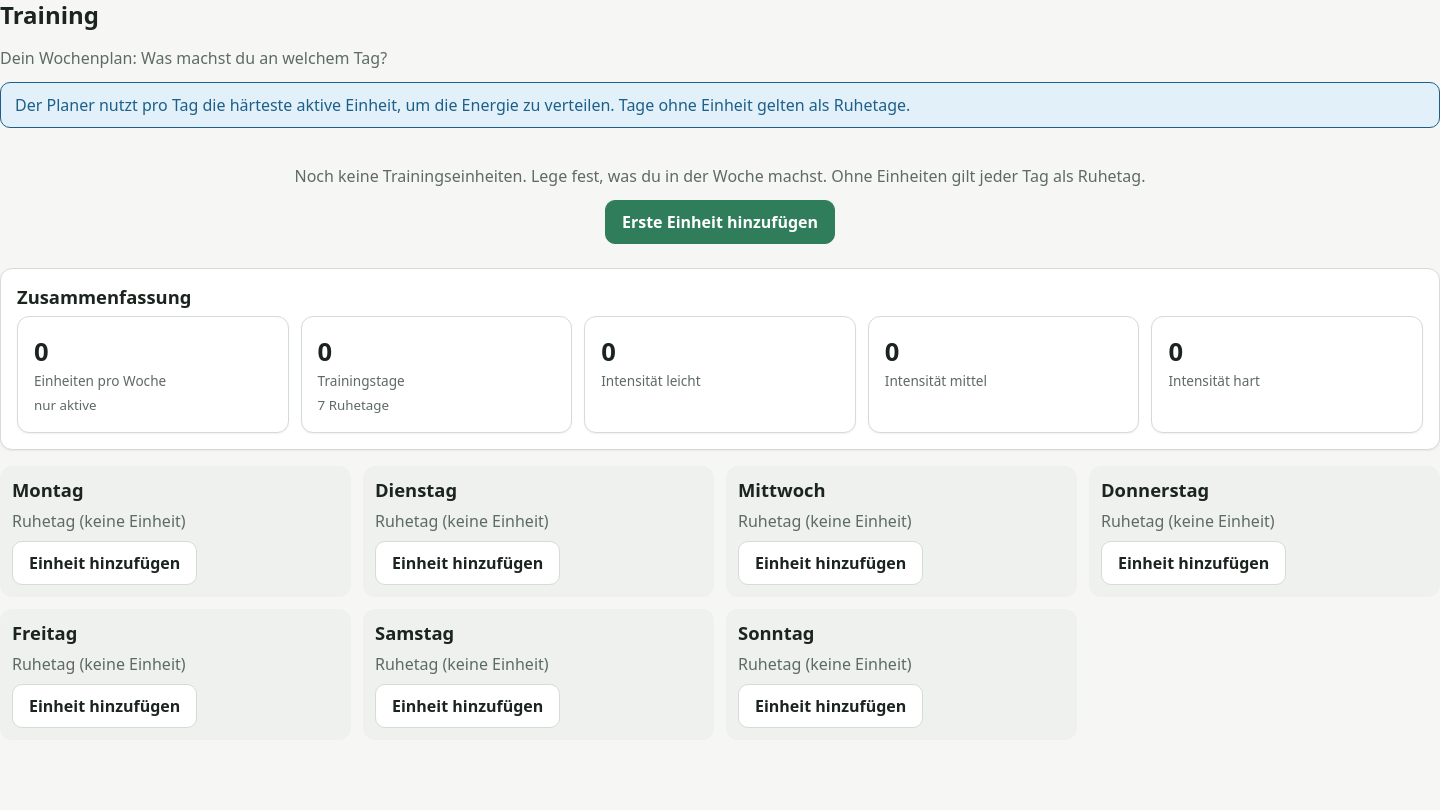
Test: Trainingsplan › zeigt die Servermeldung bei 422
Click the button "Erste Einheit hinzufügen" at [720, 222], box [605,200,835,244]
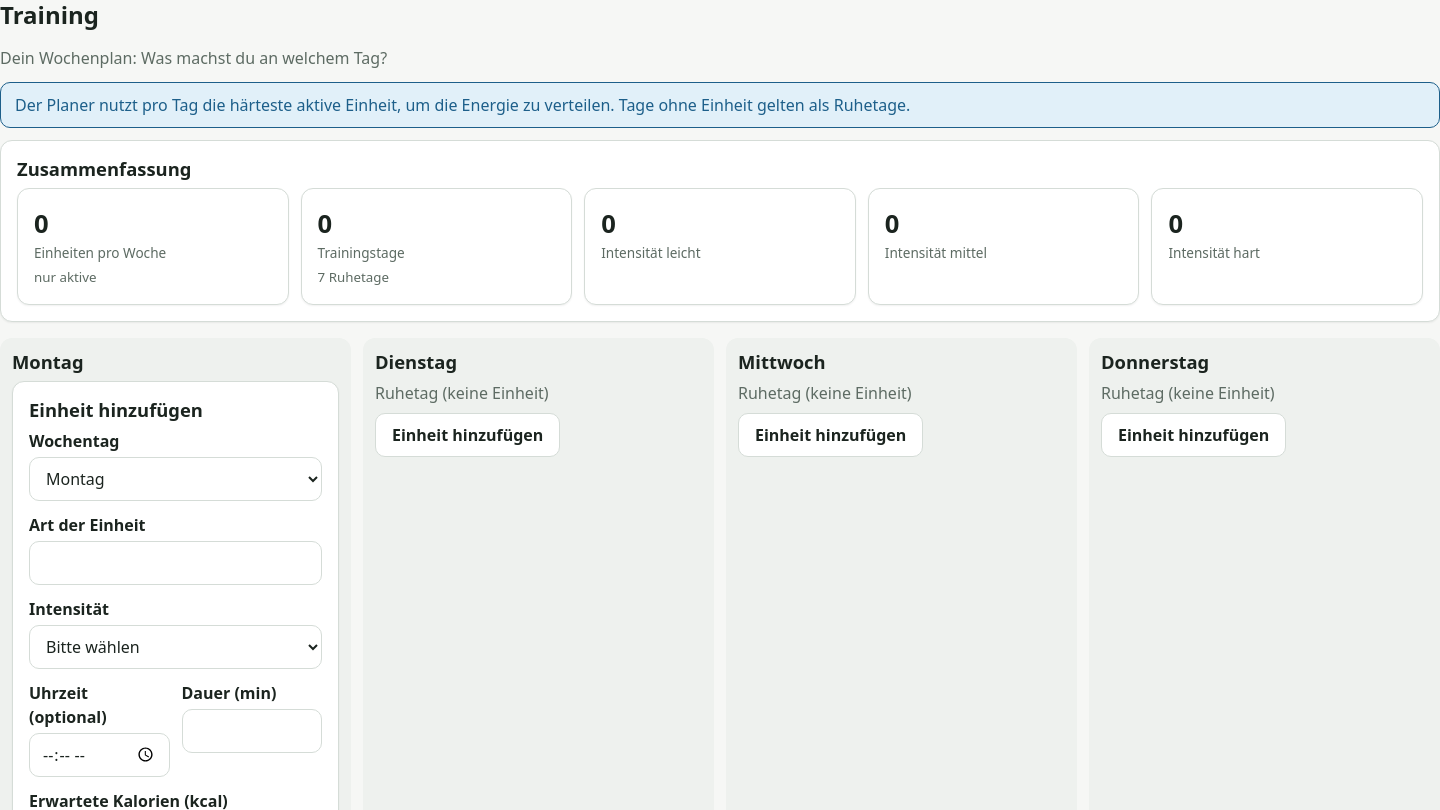
Type "Laufen" into the field labelled "Art der Einheit" at [176, 563], box [29,541,322,585]
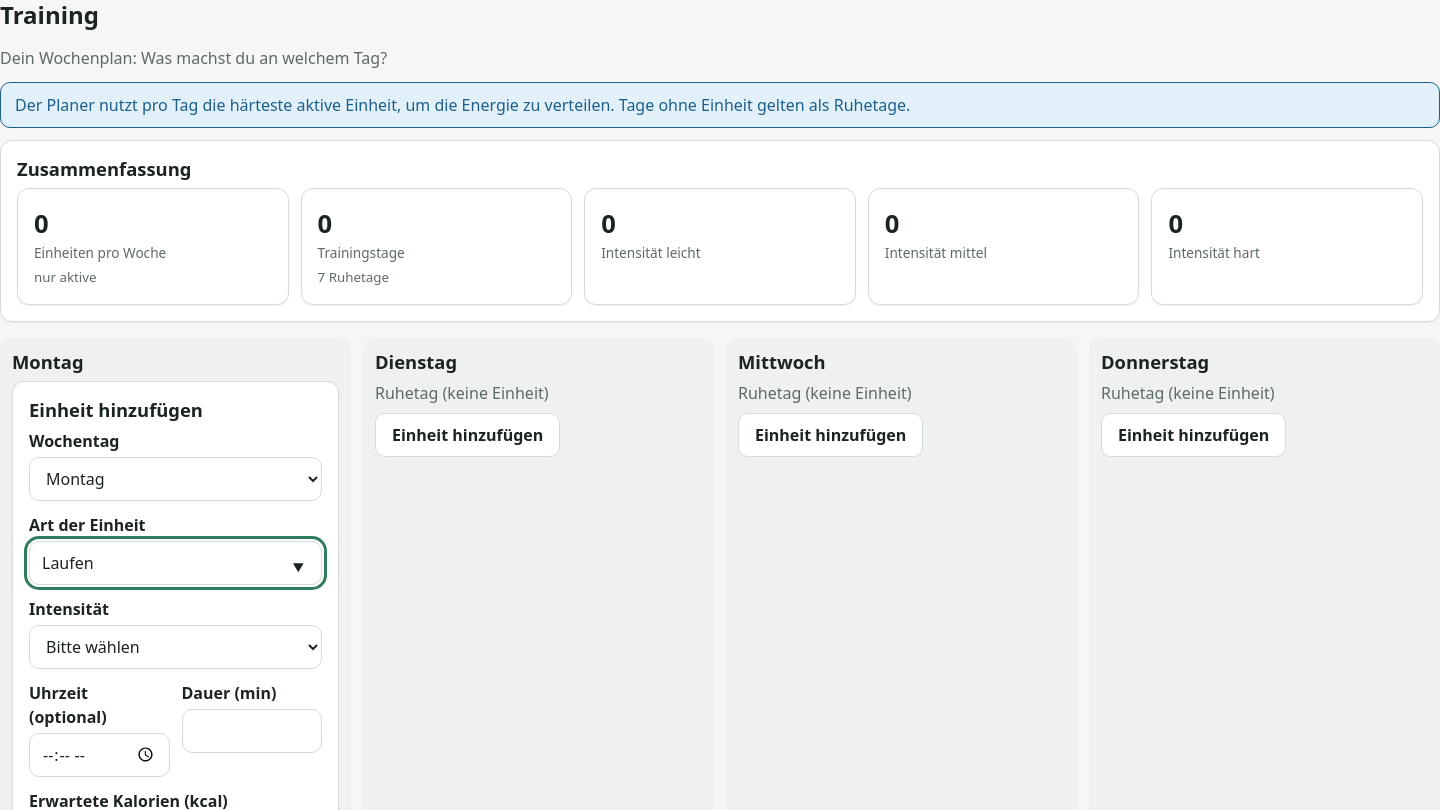
Select "hart" in the dropdown labelled "Intensität" at [176, 647], box [29,625,322,669]
(page scrolled)
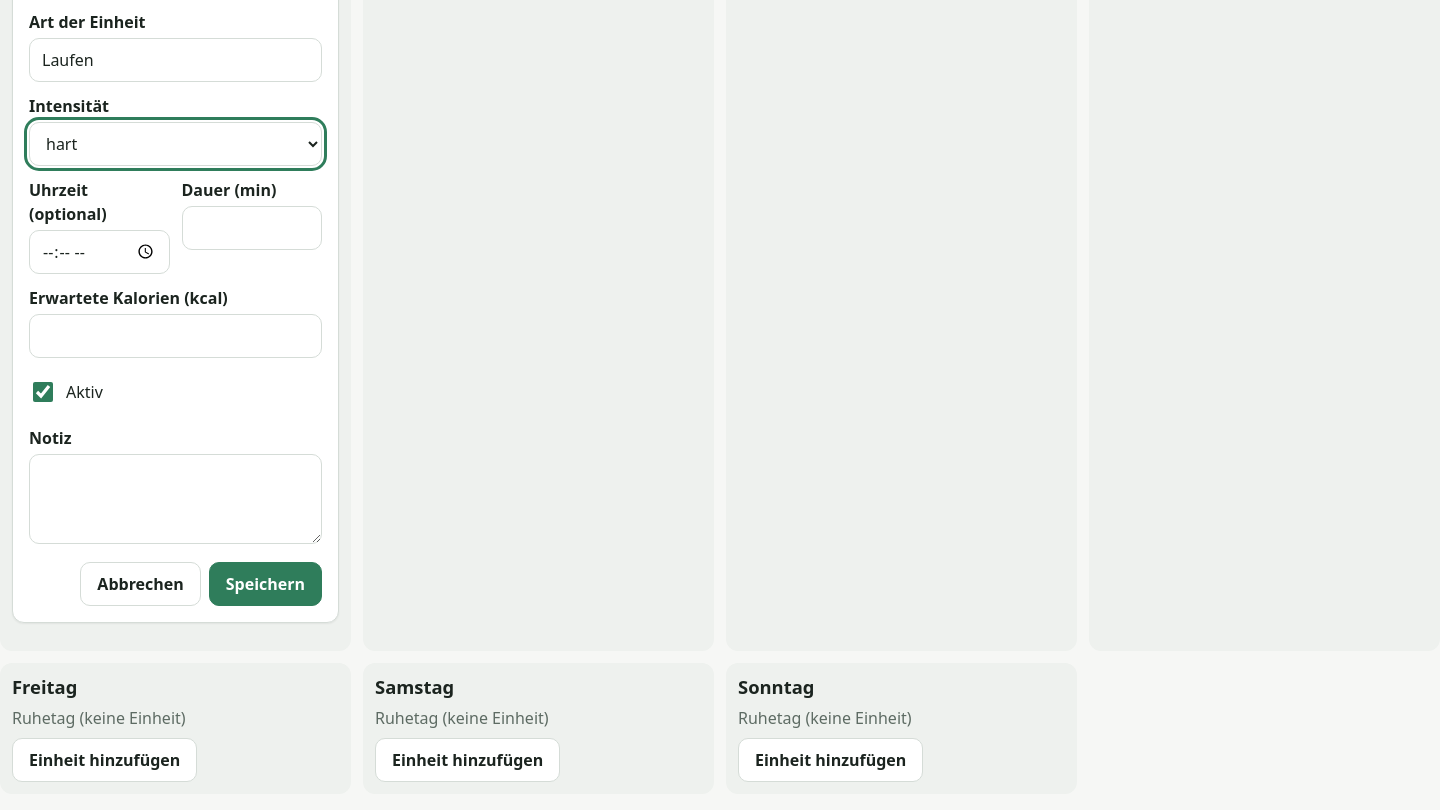
Click the button "Speichern" at [265, 584], box [209,562,322,606]
(page scrolled)
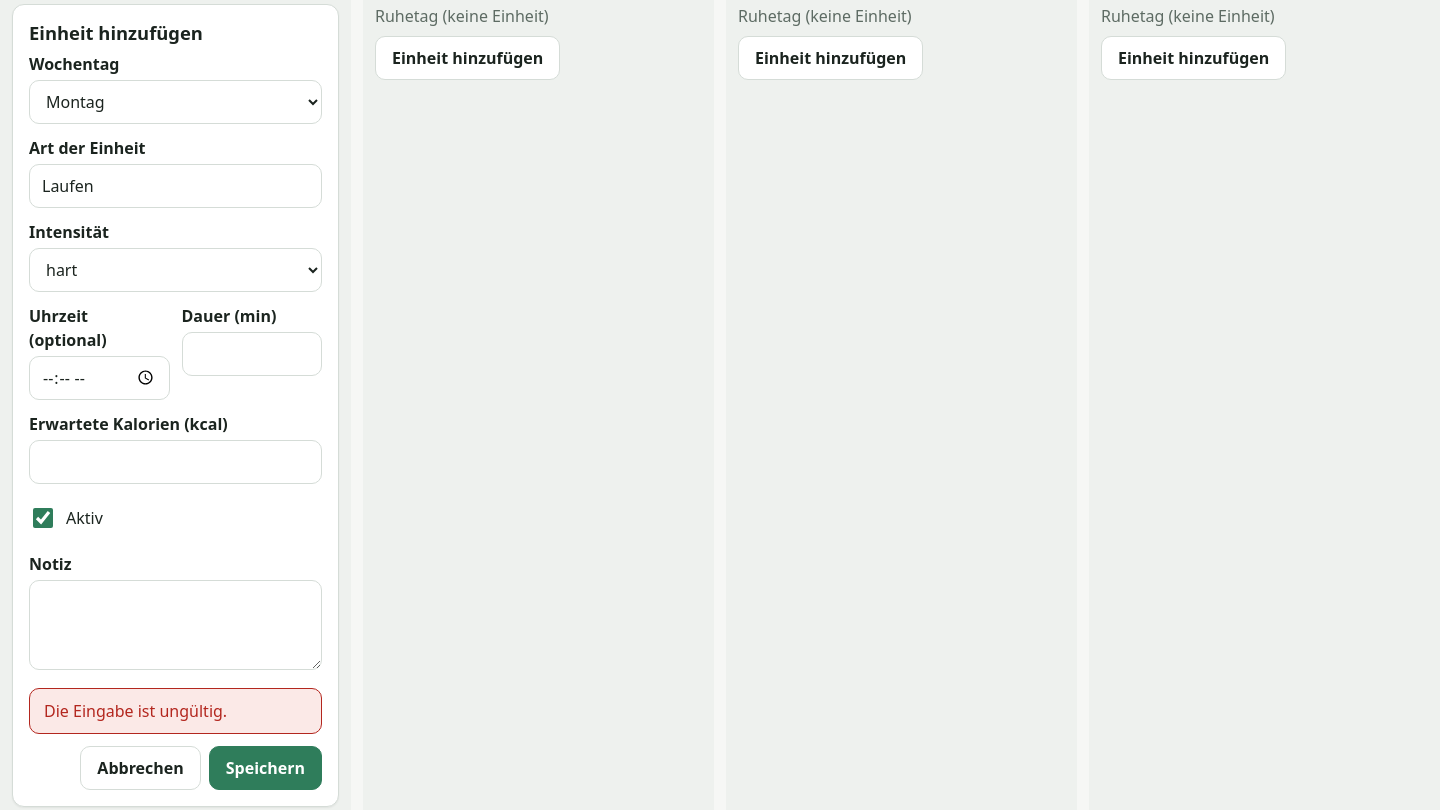
Check: the form "Einheit hinzufügen" is shown, box [29,21,322,790]
Check: the message reads "Die Eingabe ist ungültig.", box [44,700,227,722]
